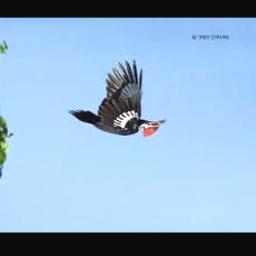Woodpecker: (67, 60, 166, 138)
